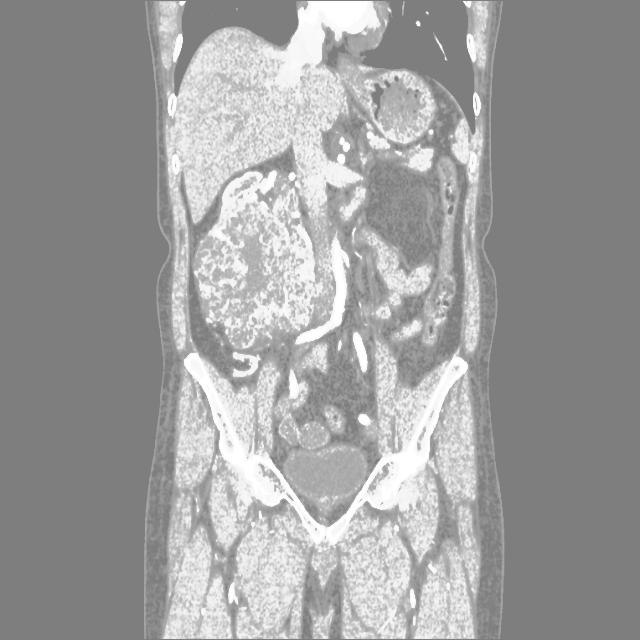TUMOR: (194, 115, 444, 313)
